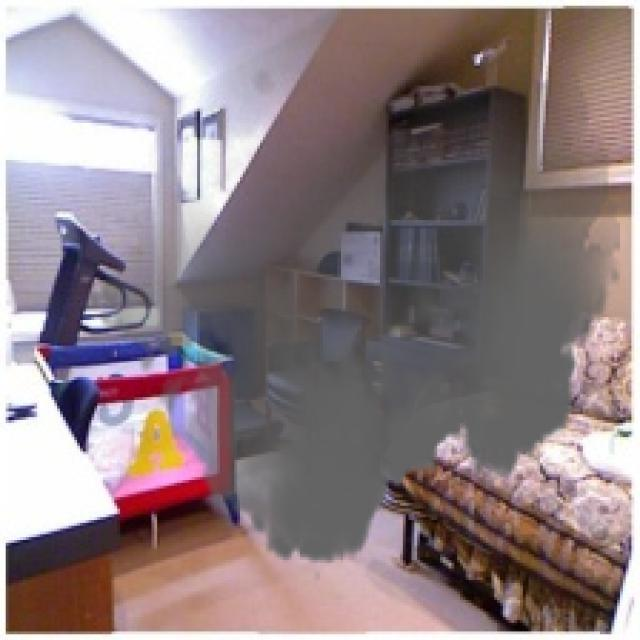Smoke: (85, 43, 620, 583)
